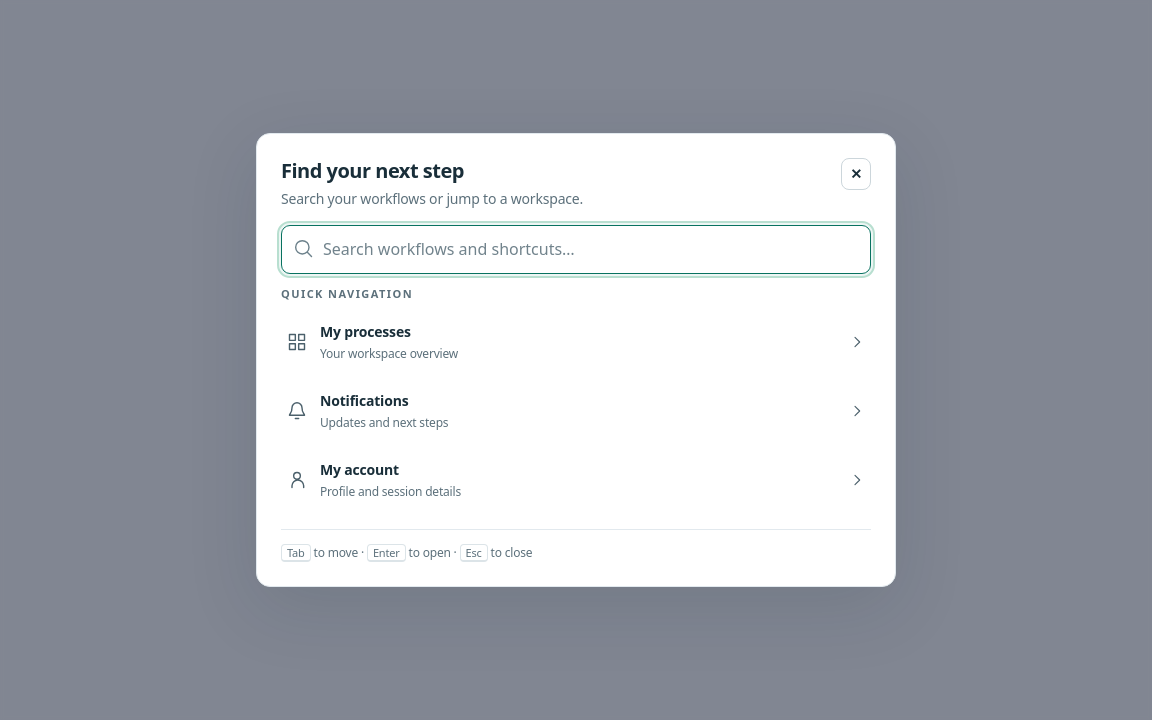
Workspace search and next-step components › shows an explicit empty result rather than invented matches
Type "zzzzzz" into the search field at (576, 249), box top-left (281, 225), bottom-right (871, 274)
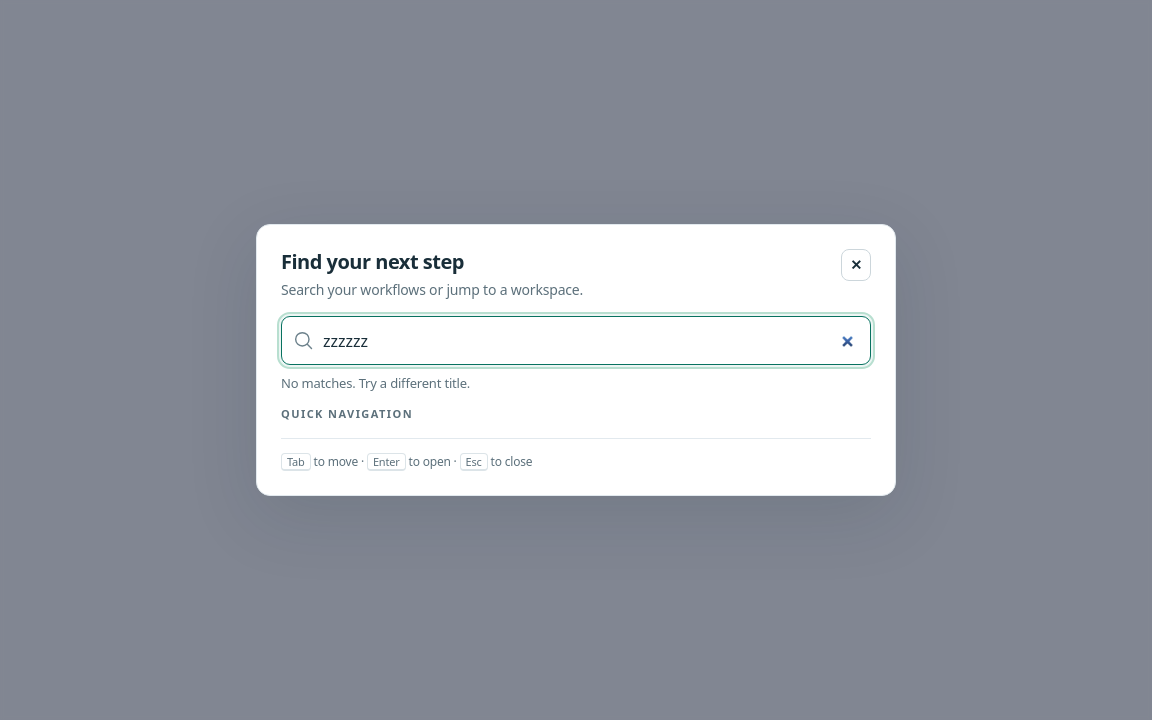
Check: the text "No matches. Try a different title." is shown, box top-left (281, 374), bottom-right (470, 392)
